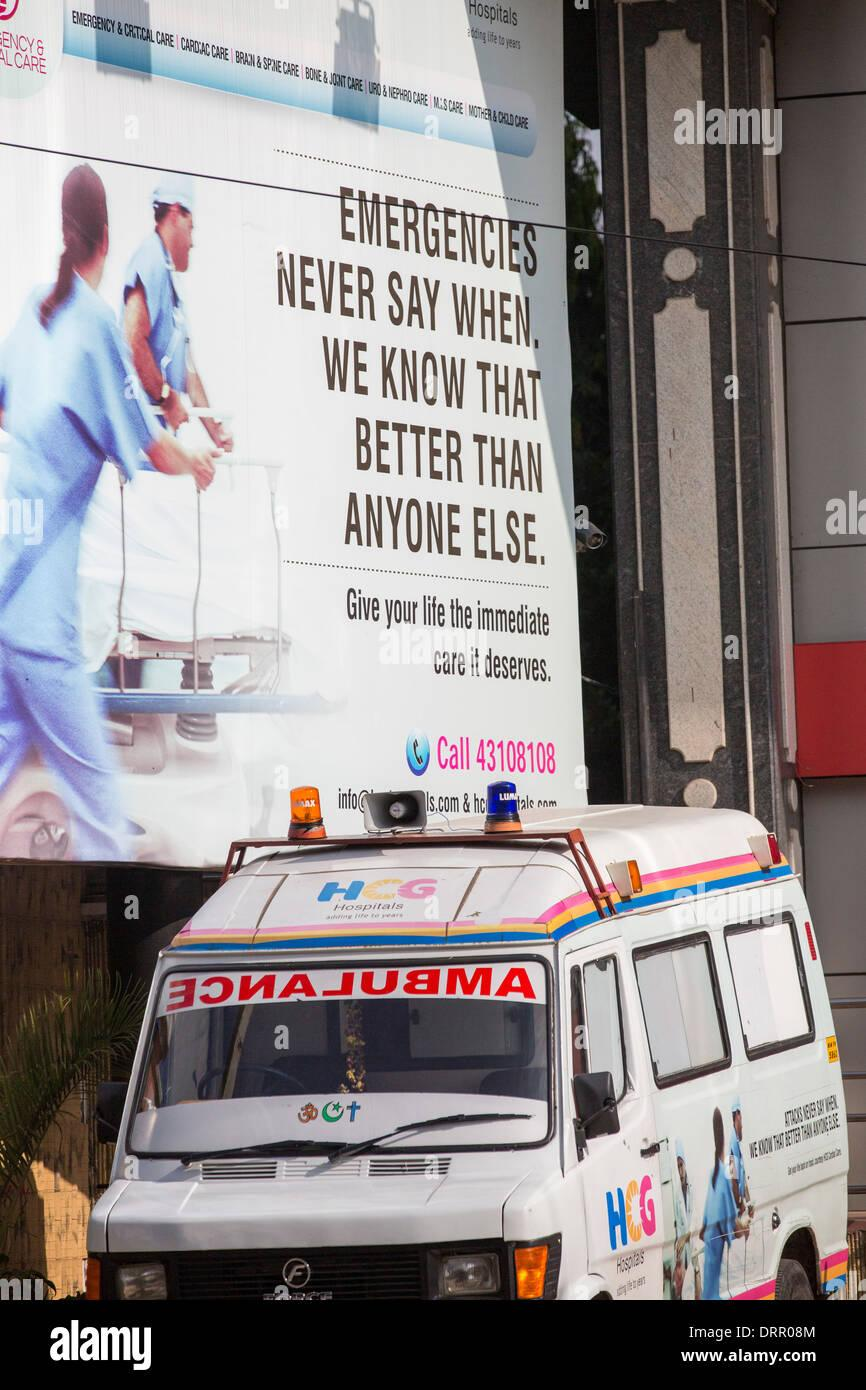Emergency-Vehicles: (151, 673, 866, 1390)
